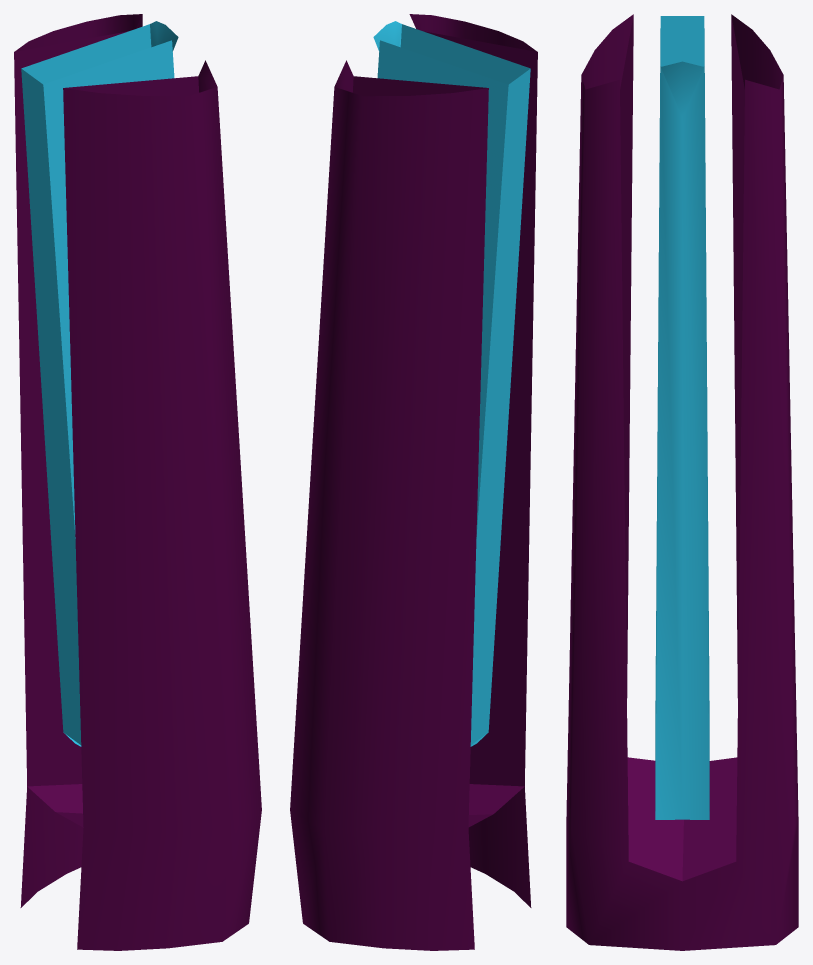
Rendered from Pillar Segmented.FBX.
3 renders of one model, left to right at view 1: azimuth 30°, elevation 25°; view 2: azimuth 150°, elevation 25°; view 3: azimuth 270°, elevation 25°, orthographic.
Visible parts, largest first — view 1: Torus017; view 2: Torus017; view 3: Torus017.
Part boxes in pixels (x1=…): Torus017: x1=14, y1=14, x2=261, y2=950; Torus017: x1=290, y1=14, x2=537, y2=950; Torus017: x1=566, y1=14, x2=798, y2=950.
Bounding box in the file's own units: 3.01 × 13.84 × 3.35.
